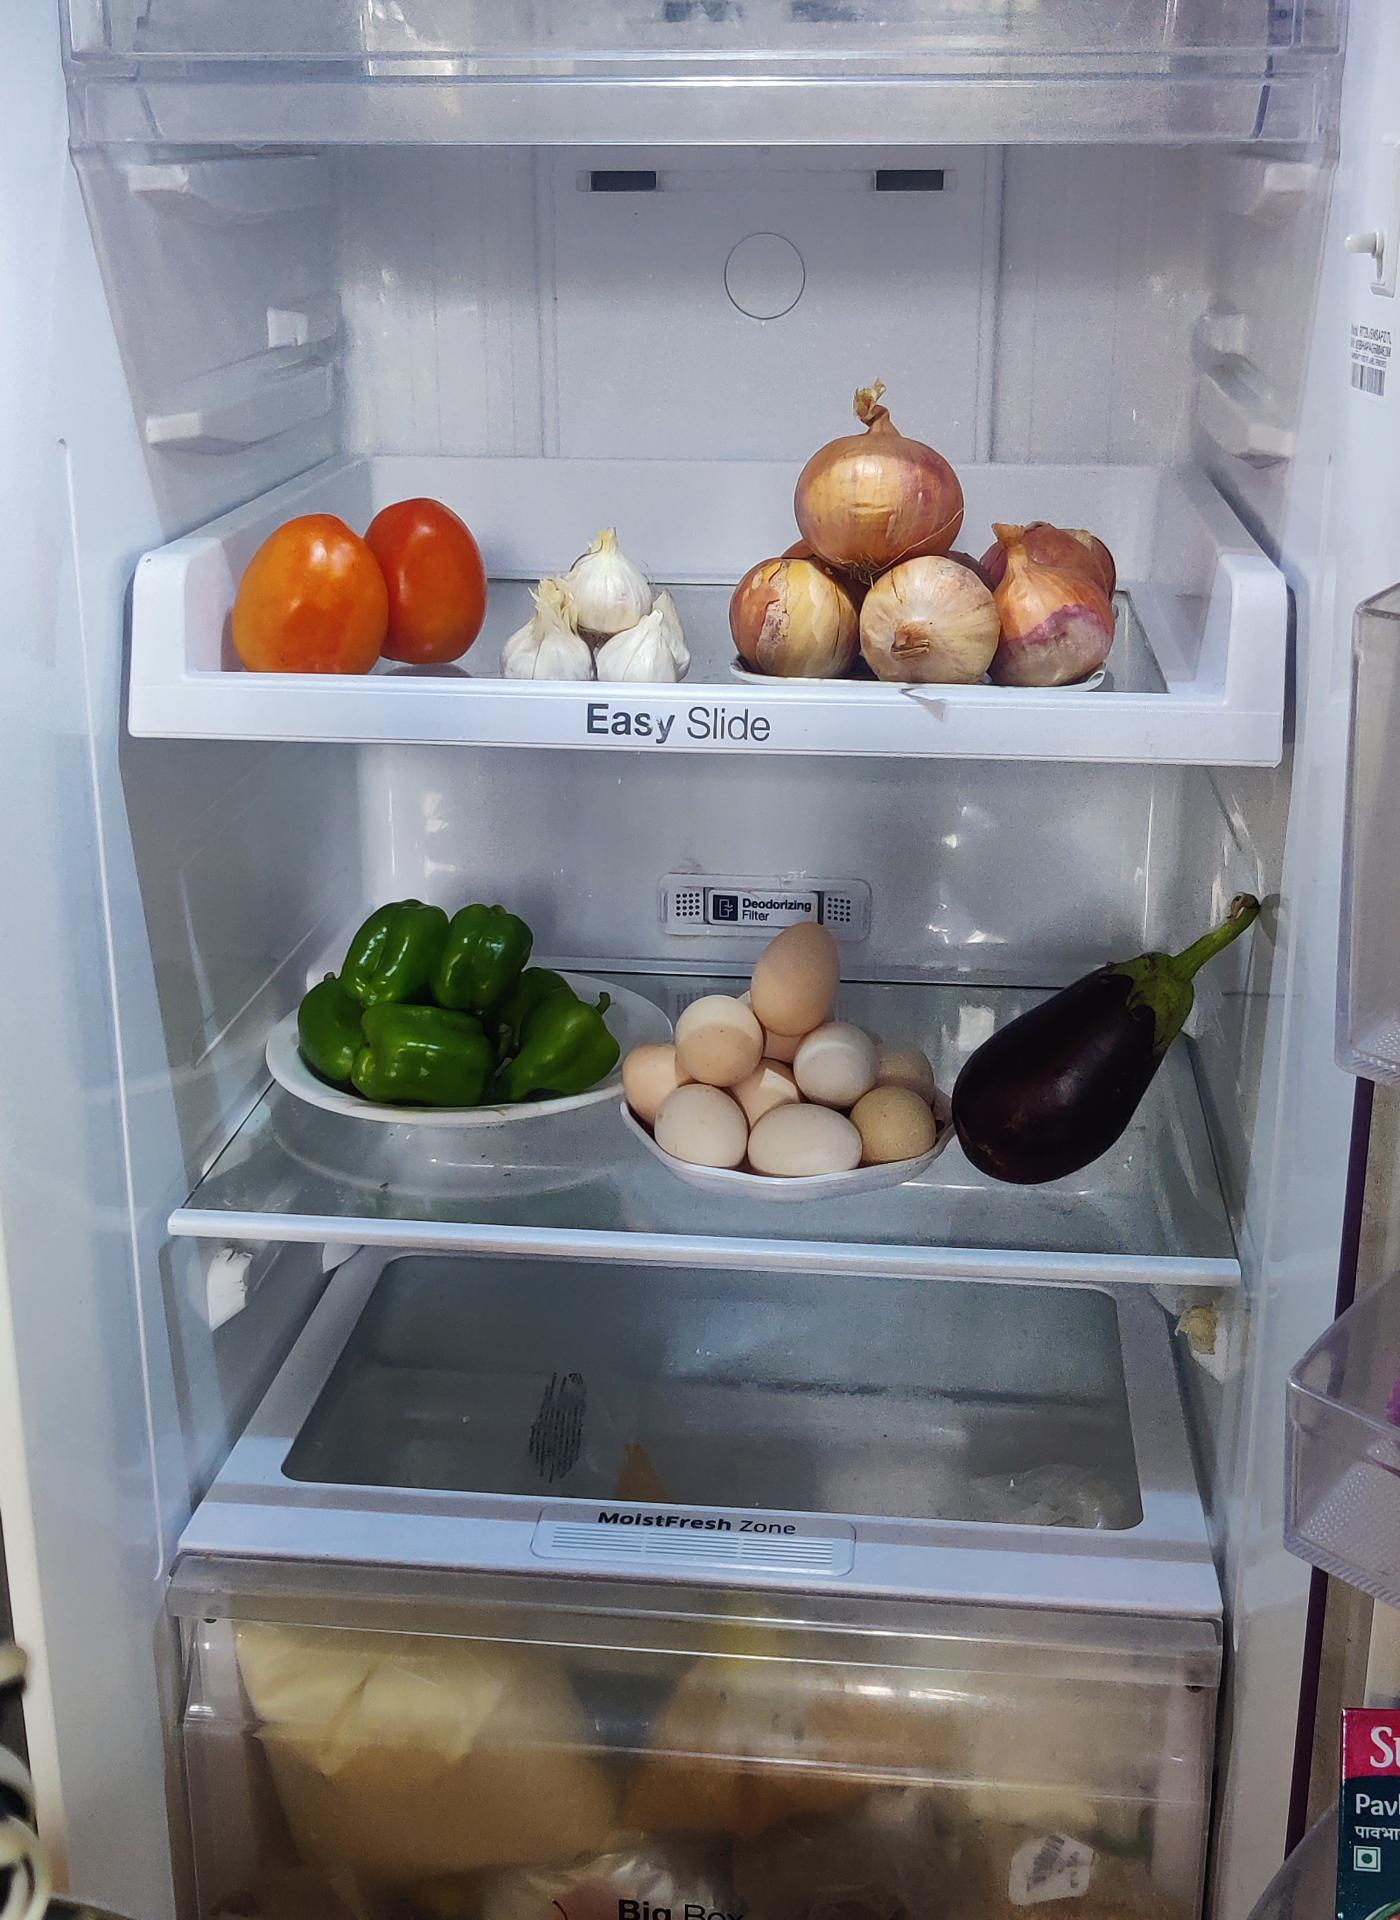brinjal: (948, 933, 1194, 1190)
capsicum: (300, 899, 626, 1114)
egg: (619, 912, 933, 1172)
garlic: (505, 531, 690, 690)
onion: (728, 446, 1120, 689)
tomato: (225, 496, 489, 678)
